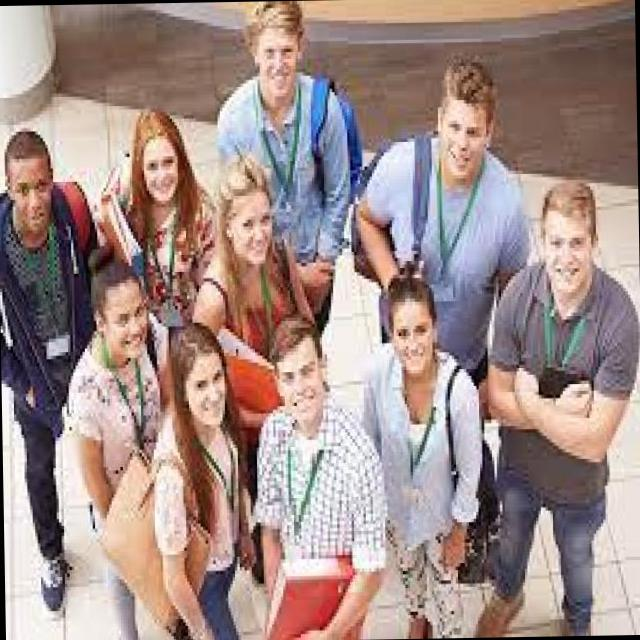id_card: (429, 154, 491, 310), (255, 82, 309, 215), (26, 217, 72, 365), (195, 424, 242, 560), (285, 427, 335, 550), (394, 407, 440, 519), (108, 348, 149, 463), (538, 303, 588, 388), (149, 226, 184, 330), (248, 263, 284, 354)
